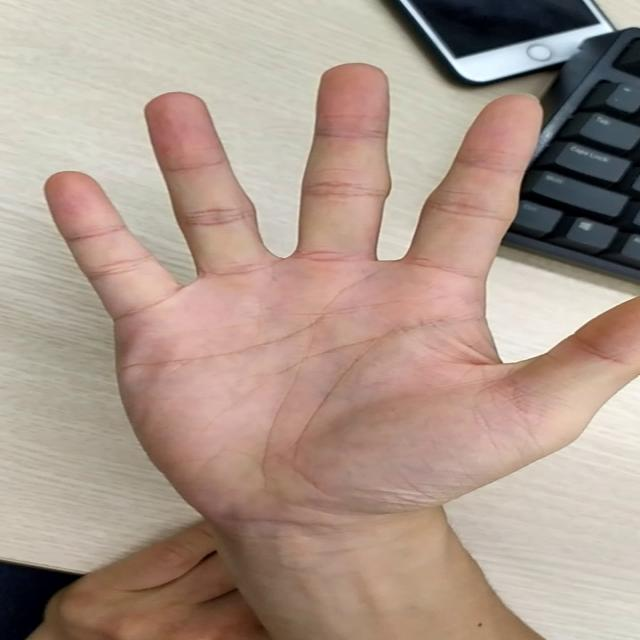hand: (42, 64, 640, 476)
